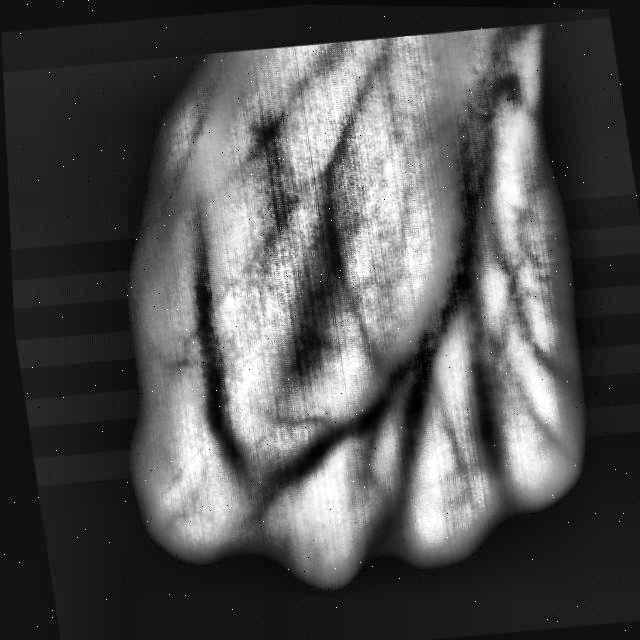Vein: (400, 159, 502, 374)
